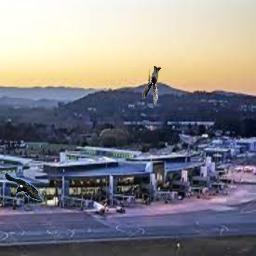Crow: (4, 171, 44, 201)
Swallow: (142, 66, 161, 106)
